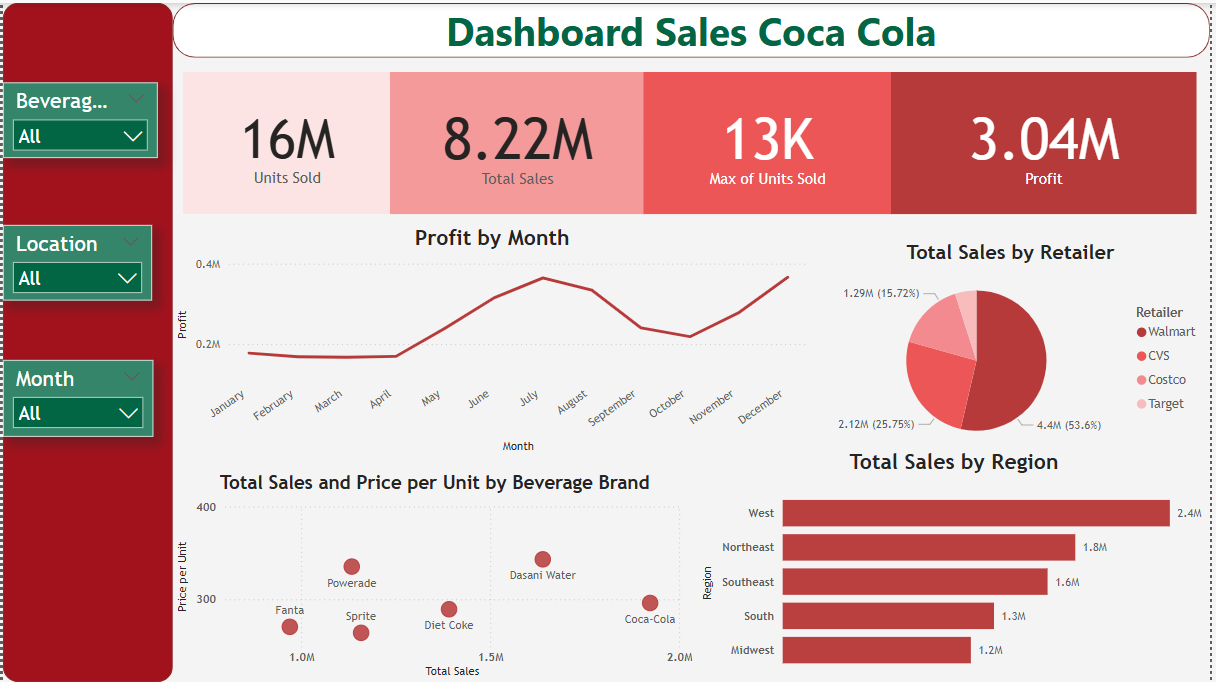

The dashboard page shown, as its layout file describes it:
{"tool":"powerbi","page":{"name":"Page 1","canvas":[1280,720],"ordinal":0},"visuals":[{"type":"pieChart","title":"Total Sales by Retailer","fields":{"Category":["Data.Retailer"],"Y":["Sum(Data.Total Sales)"]},"box":[857.6,250.8,422,230.5],"z":1000,"group":"g1"},{"type":"lineChart","fields":{"Category":["Data.Invoice Date.Variation.Date Hierarchy.Month"],"Y":["Sum(Data.Operating Profit)"]},"box":[179.7,235.6,678,245.8],"z":2000,"group":"g1"},{"type":"clusteredBarChart","title":"Total Sales by Region","fields":{"Category":["Data.Region"],"Y":["Sum(Data.Total Sales)"]},"box":[736,472,544,248],"z":3000,"group":"g1"},{"type":"scatterChart","fields":{"Category":["Data.Beverage Brand"],"X":["Sum(Data.Total Sales)"],"Y":["Sum(Data.Price per Unit)"]},"box":[180,496,556,224],"z":4000,"group":"g1"},{"type":"shape","box":[180,0,1100,58],"z":5000,"group":"g1"},{"type":"shape","box":[0,0,180,720],"z":6000,"group":"g1"},{"type":"slicer","fields":{"Values":["Data.Beverage Brand"]},"box":[0,84,164,80],"z":7000,"group":"g1"},{"type":"slicer","fields":{"Values":["Data.Region"]},"box":[0,236,158,80],"z":8000,"group":"g1"},{"type":"slicer","fields":{"Values":["Data.Invoice Date.Variation.Date Hierarchy.Month"]},"box":[0,378,159.3,81.4],"z":9003,"group":"g1"},{"type":"card","fields":{"Values":["Sum(Data.Units Sold)"]},"box":[191.5,72.9,220.3,150.8],"z":9004,"group":"g1"},{"type":"card","fields":{"Values":["Sum(Data.Total Sales)"]},"box":[410.2,72.9,269.5,150.8],"z":9005,"group":"g1"},{"type":"card","fields":{"Values":["Max(Data.Units Sold)"]},"box":[679.7,72.9,262.7,150.8],"z":9006,"group":"g1"},{"type":"card","fields":{"Values":["Sum(Data.Operating Profit)"]},"box":[942.4,72.9,323.7,150.8],"z":9007,"group":"g1"},{"type":"group","id":"g1","title":"Group 1","box":[0,0,1280,720],"z":9008}]}

Visuals, with their boxes in screenshot pixels (x1, y1, x2, y2), scaled from the page's 1280x720 canvas onto the 1216x682 screenshot:
"Total Sales by Retailer" pieChart: bbox=[815, 238, 1215, 456]
lineChart - Data.Invoice Date.Variation.Date Hierarchy.Month x Sum(Data.Operating Profit): bbox=[171, 223, 815, 456]
"Total Sales by Region" clusteredBarChart: bbox=[699, 447, 1215, 681]
scatterChart - Data.Beverage Brand x Sum(Data.Total Sales): bbox=[171, 470, 699, 681]
shape: bbox=[171, 0, 1215, 55]
shape: bbox=[0, 0, 171, 681]
slicer - Data.Beverage Brand: bbox=[0, 80, 156, 155]
slicer - Data.Region: bbox=[0, 224, 150, 299]
slicer - Data.Invoice Date.Variation.Date Hierarchy.Month: bbox=[0, 358, 151, 435]
card - Sum(Data.Units Sold): bbox=[182, 69, 391, 212]
card - Sum(Data.Total Sales): bbox=[390, 69, 646, 212]
card - Max(Data.Units Sold): bbox=[646, 69, 895, 212]
card - Sum(Data.Operating Profit): bbox=[895, 69, 1203, 212]
"Group 1" group: bbox=[0, 0, 1215, 681]
